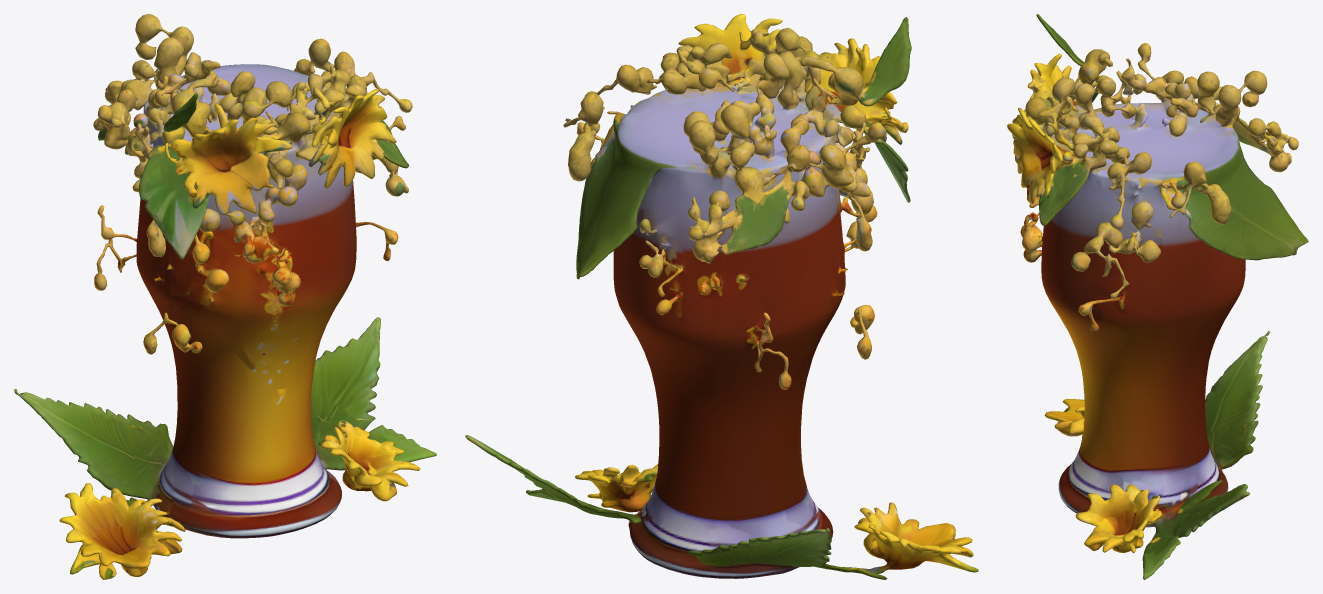
The model's file is Earth.glb.
3 renders of one model, left to right at view 1: azimuth 30°, elevation 25°; view 2: azimuth 150°, elevation 25°; view 3: azimuth 270°, elevation 25°, orthographic. The views are drawn at different scales.
Visible parts, largest first — view 1: texture_v100.001; view 2: texture_v100.001; view 3: texture_v100.001.
Part boxes in pixels (bbox=[...]): texture_v100.001: bbox=[14, 14, 436, 579]; texture_v100.001: bbox=[465, 14, 978, 579]; texture_v100.001: bbox=[1007, 14, 1308, 579].
Size of the model in its own units: 0.7636 by 0.8904 by 0.5541.
Materials: 1 (1 with a texture image).
